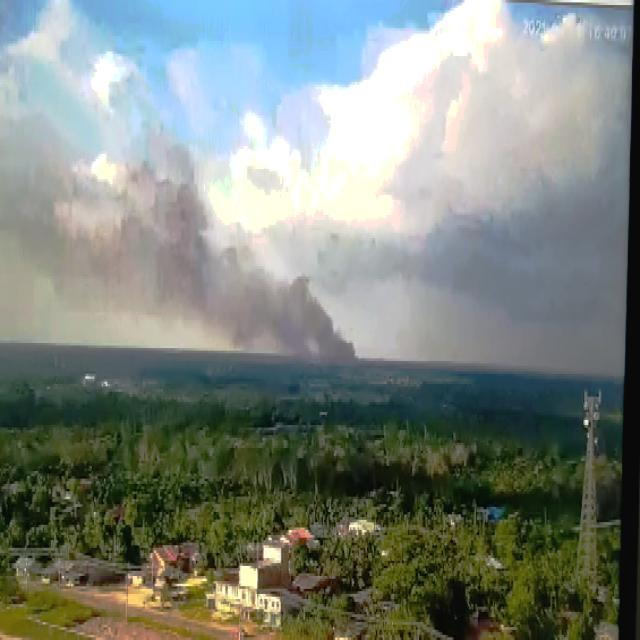asap: (1, 98, 363, 379)
